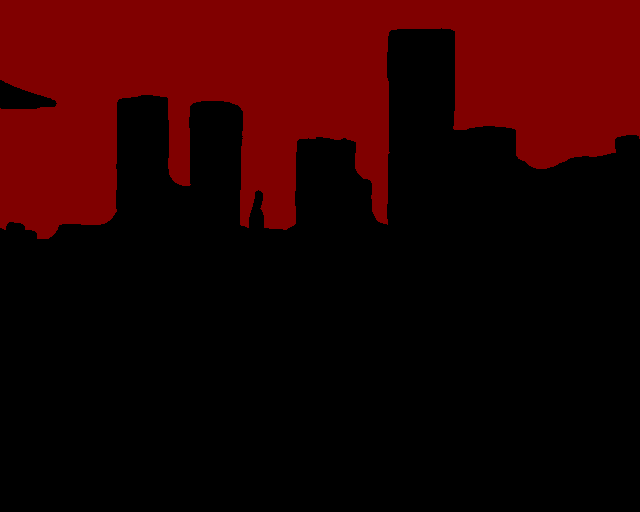Sky: (1, 1, 639, 239)
